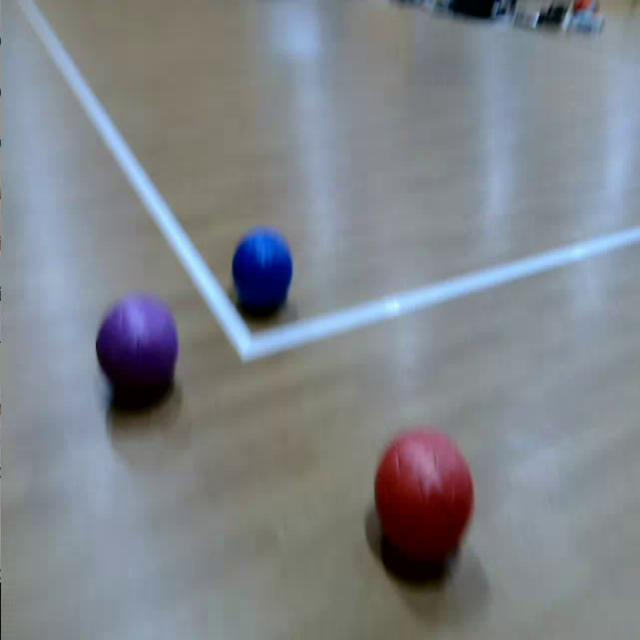blue_ball: (232, 228, 294, 306)
purple_ball: (96, 292, 178, 397)
red_ball: (372, 428, 474, 559)
